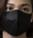with_mask: (1, 2, 33, 38)
